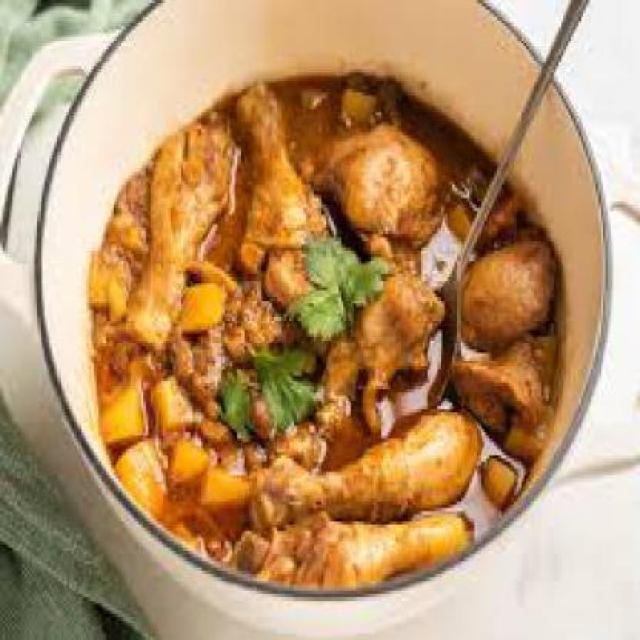CHICKEN CURRY: (93, 75, 560, 588)
